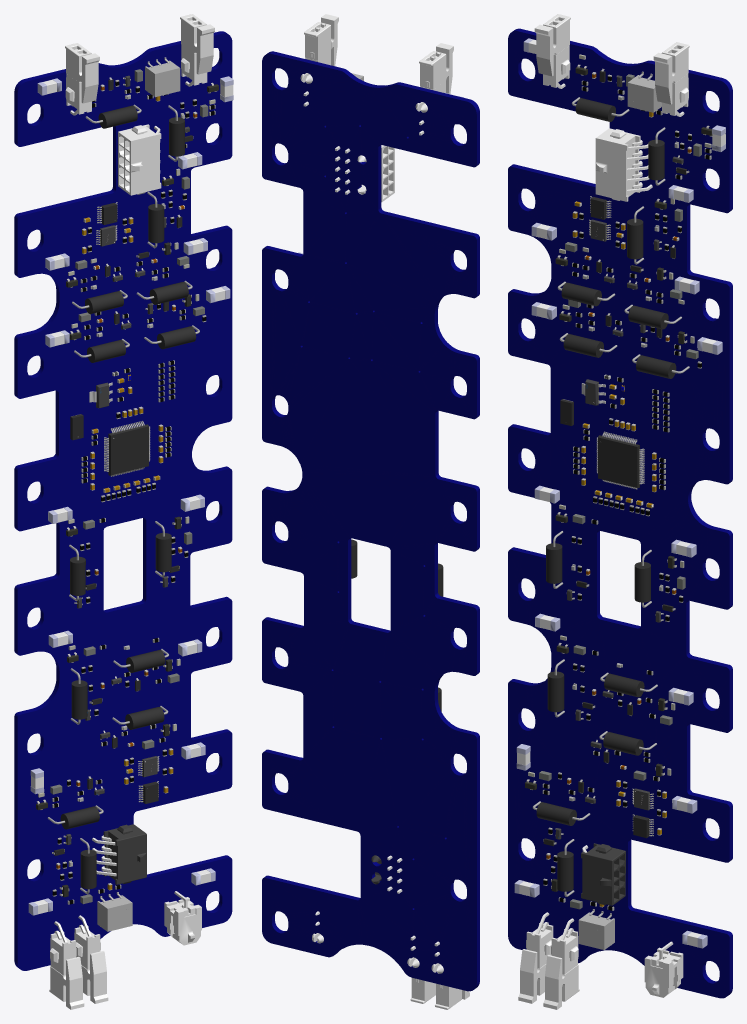
Rendered from bms-module-v6.glb.
3 renders of one model, left to right at view 1: azimuth 30°, elevation 25°; view 2: azimuth 150°, elevation 25°; view 3: azimuth 330°, elevation 25°, orthographic. The views are drawn at different scales.
Visible parts, largest first — view 1: Open CASCADE STEP translator 7.5 1; view 2: Open CASCADE STEP translator 7.5 1; view 3: Open CASCADE STEP translator 7.5 1.
Part boxes in pixels (left/top/right/bottom): Open CASCADE STEP translator 7.5 1: left=14, top=14, right=233, bottom=1009; Open CASCADE STEP translator 7.5 1: left=262, top=14, right=479, bottom=1009; Open CASCADE STEP translator 7.5 1: left=508, top=14, right=732, bottom=1009.
Size of the model in its own units: 0.0654 by 0.2755 by 0.015.
1 material, 1 textured.
